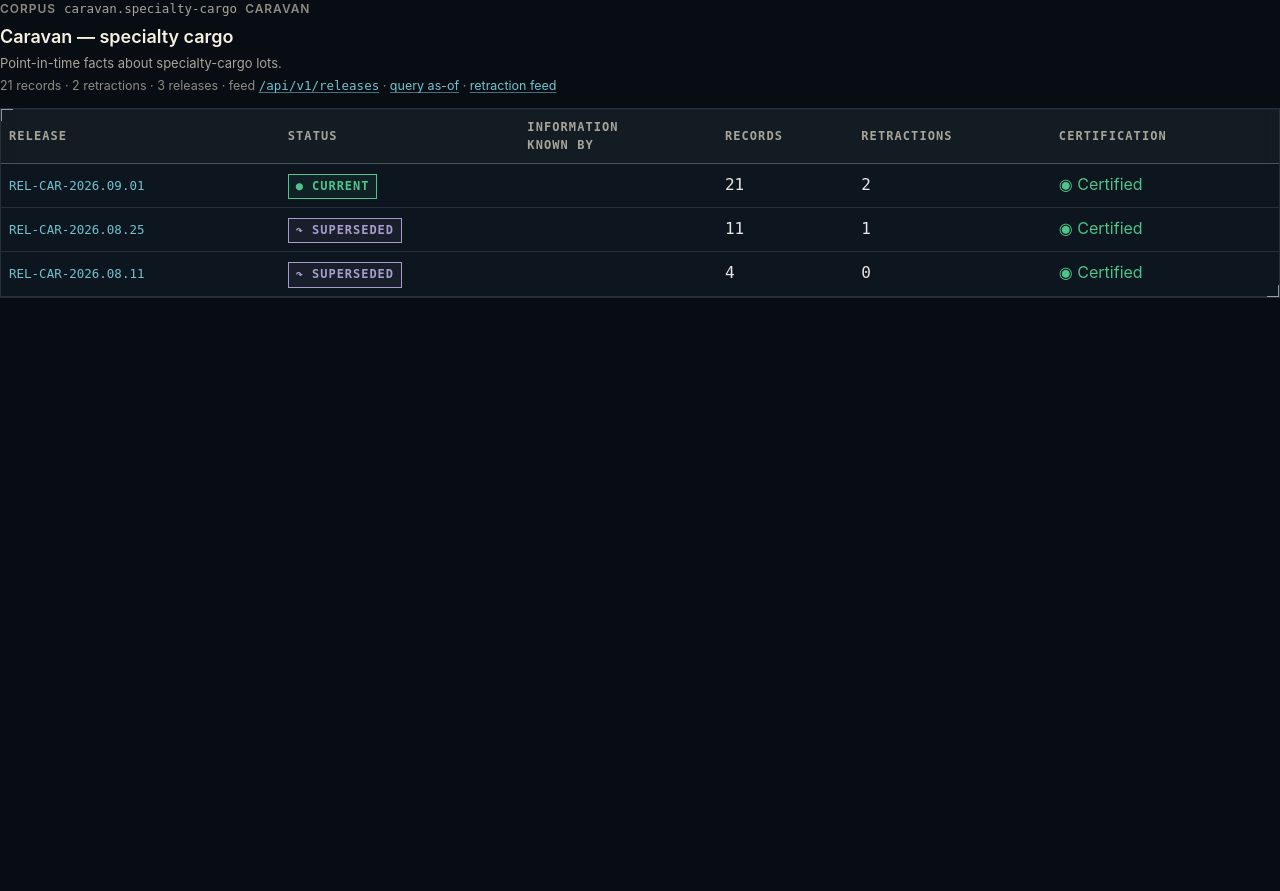
Test case: one release, in context › says what each end of the chain is when there is nothing there, rather than showing an empty row
The image size is (1280, 891).
Click the button "REL-CAR-2026.08.11": coordinates (140, 272) [9,260,272,284]
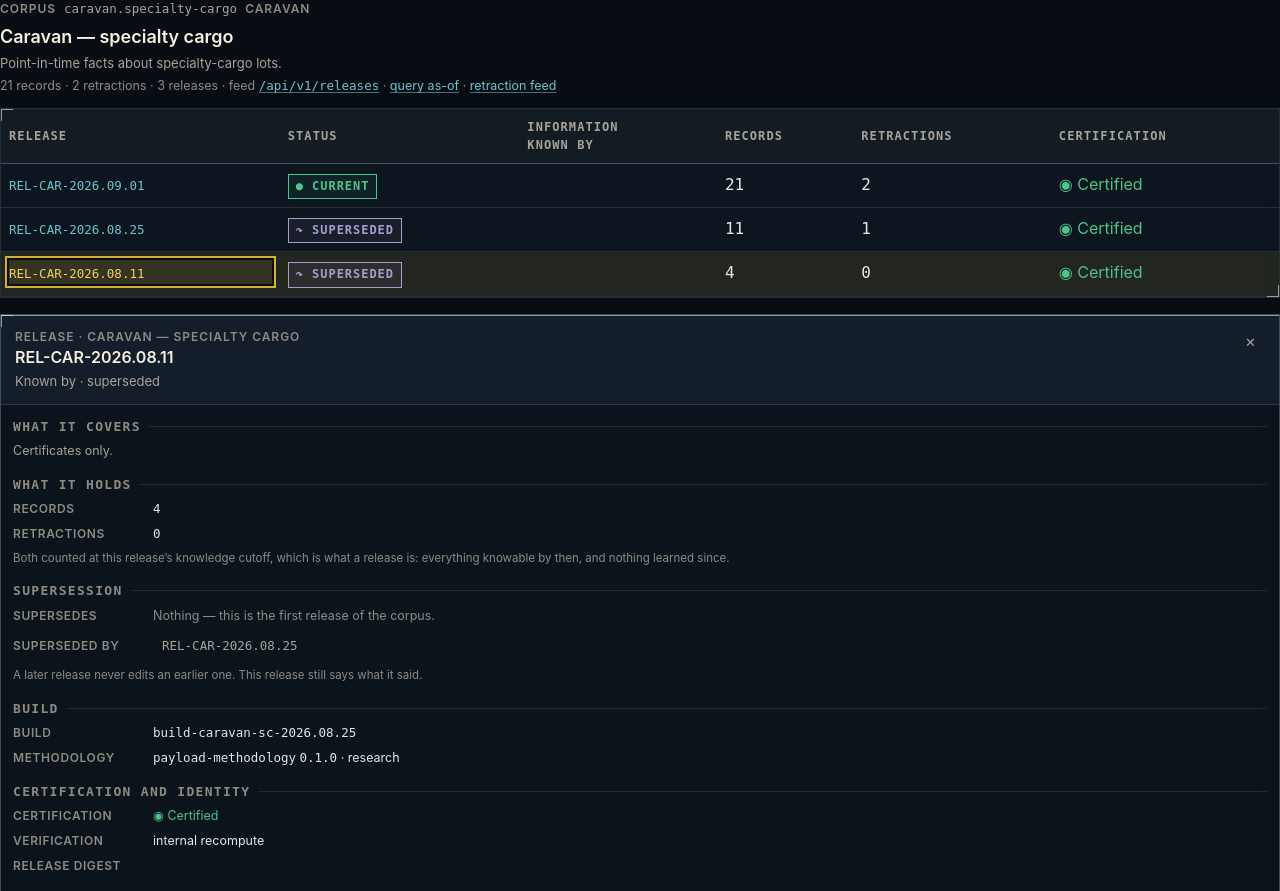
Now the element with test id "release-inspector" shows "this is the first release of the corpus", box [153,608,435,623]
Click the button "REL-CAR-2026.09.01": coordinates (140, 184) [9,172,272,196]
(page scrolled)
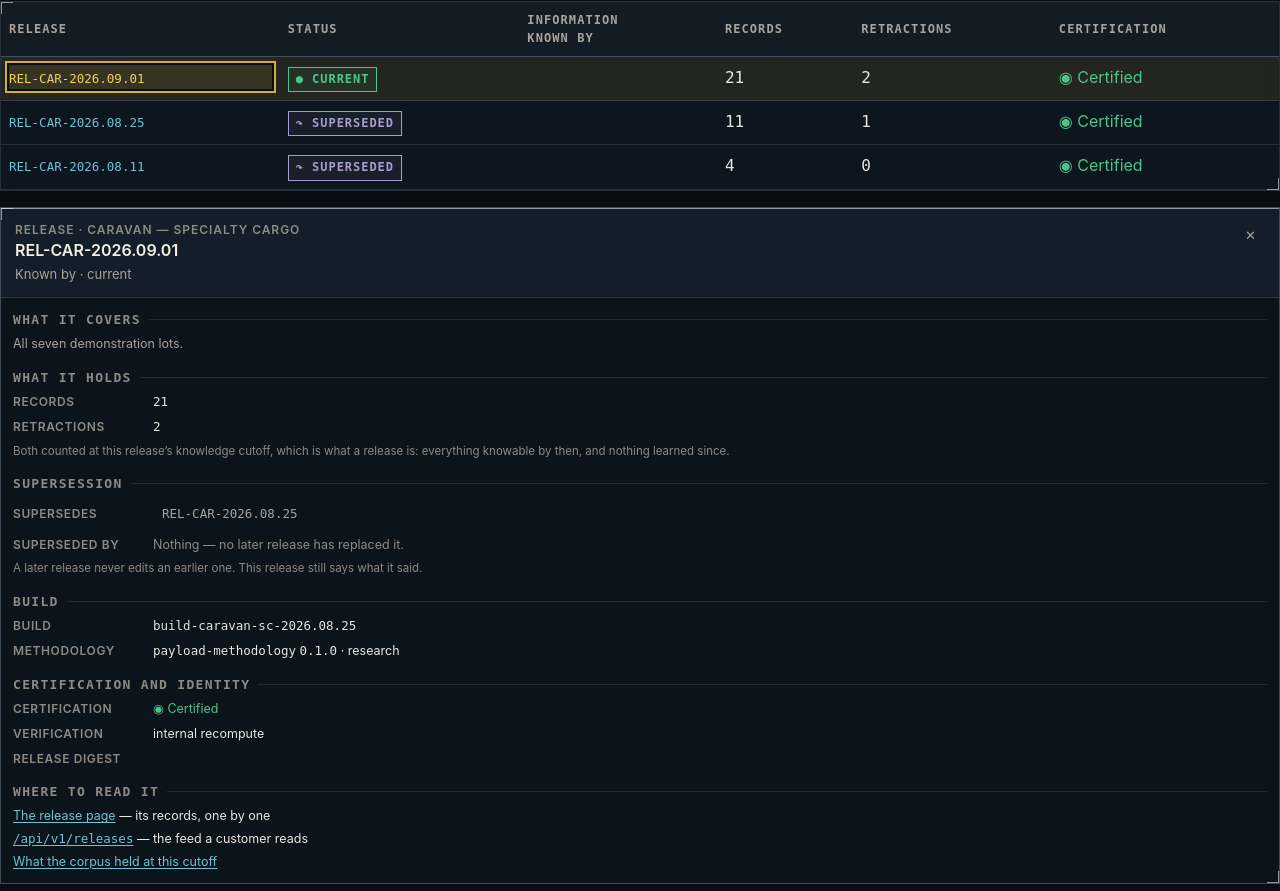
Now the element with test id "release-inspector" shows "no later release has replaced it", box [153,537,404,552]
